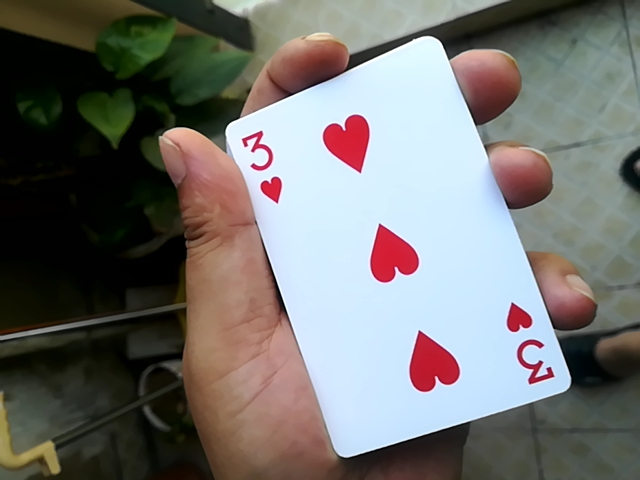hx 3: (227, 44, 577, 455)
